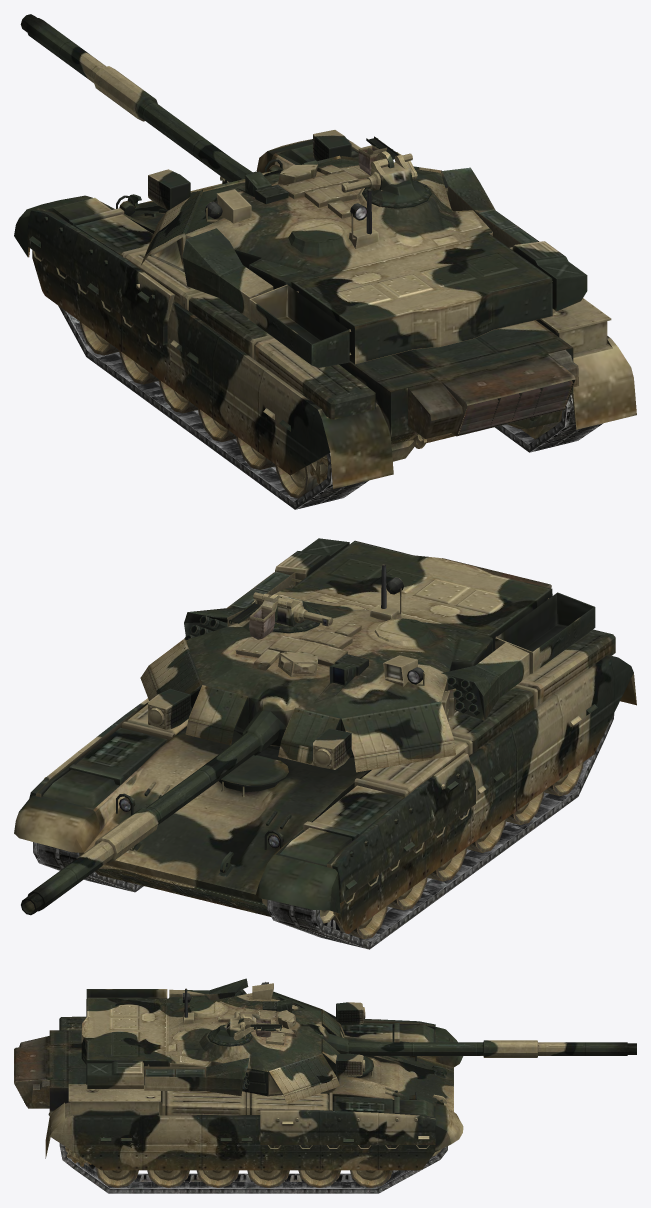
Rendered from yatagan.glb.
The picture shows the model from 3 angles, top to bottom: view 1: azimuth 30°, elevation 25°; view 2: azimuth 150°, elevation 25°; view 3: azimuth 270°, elevation 25°; orthographic projection. The views are drawn at different scales.
Parts seen in each view (by area): view 1: ukrtnk_oplot_0, ukrtnk_oplot.001_1; view 2: ukrtnk_oplot_0, ukrtnk_oplot.001_1; view 3: ukrtnk_oplot_0, ukrtnk_oplot.001_1.
Boxes of the visible parts, left/top/right/bottom form: ukrtnk_oplot_0: left=14, top=139, right=636, bottom=509; ukrtnk_oplot.001_1: left=20, top=14, right=587, bottom=367; ukrtnk_oplot_0: left=14, top=558, right=636, bottom=949; ukrtnk_oplot.001_1: left=21, top=538, right=595, bottom=915; ukrtnk_oplot_0: left=14, top=1016, right=463, bottom=1193; ukrtnk_oplot.001_1: left=81, top=978, right=636, bottom=1103.
Size of the model in its own units: 134 by 97.52 by 350.
2 materials, 2 textured.
